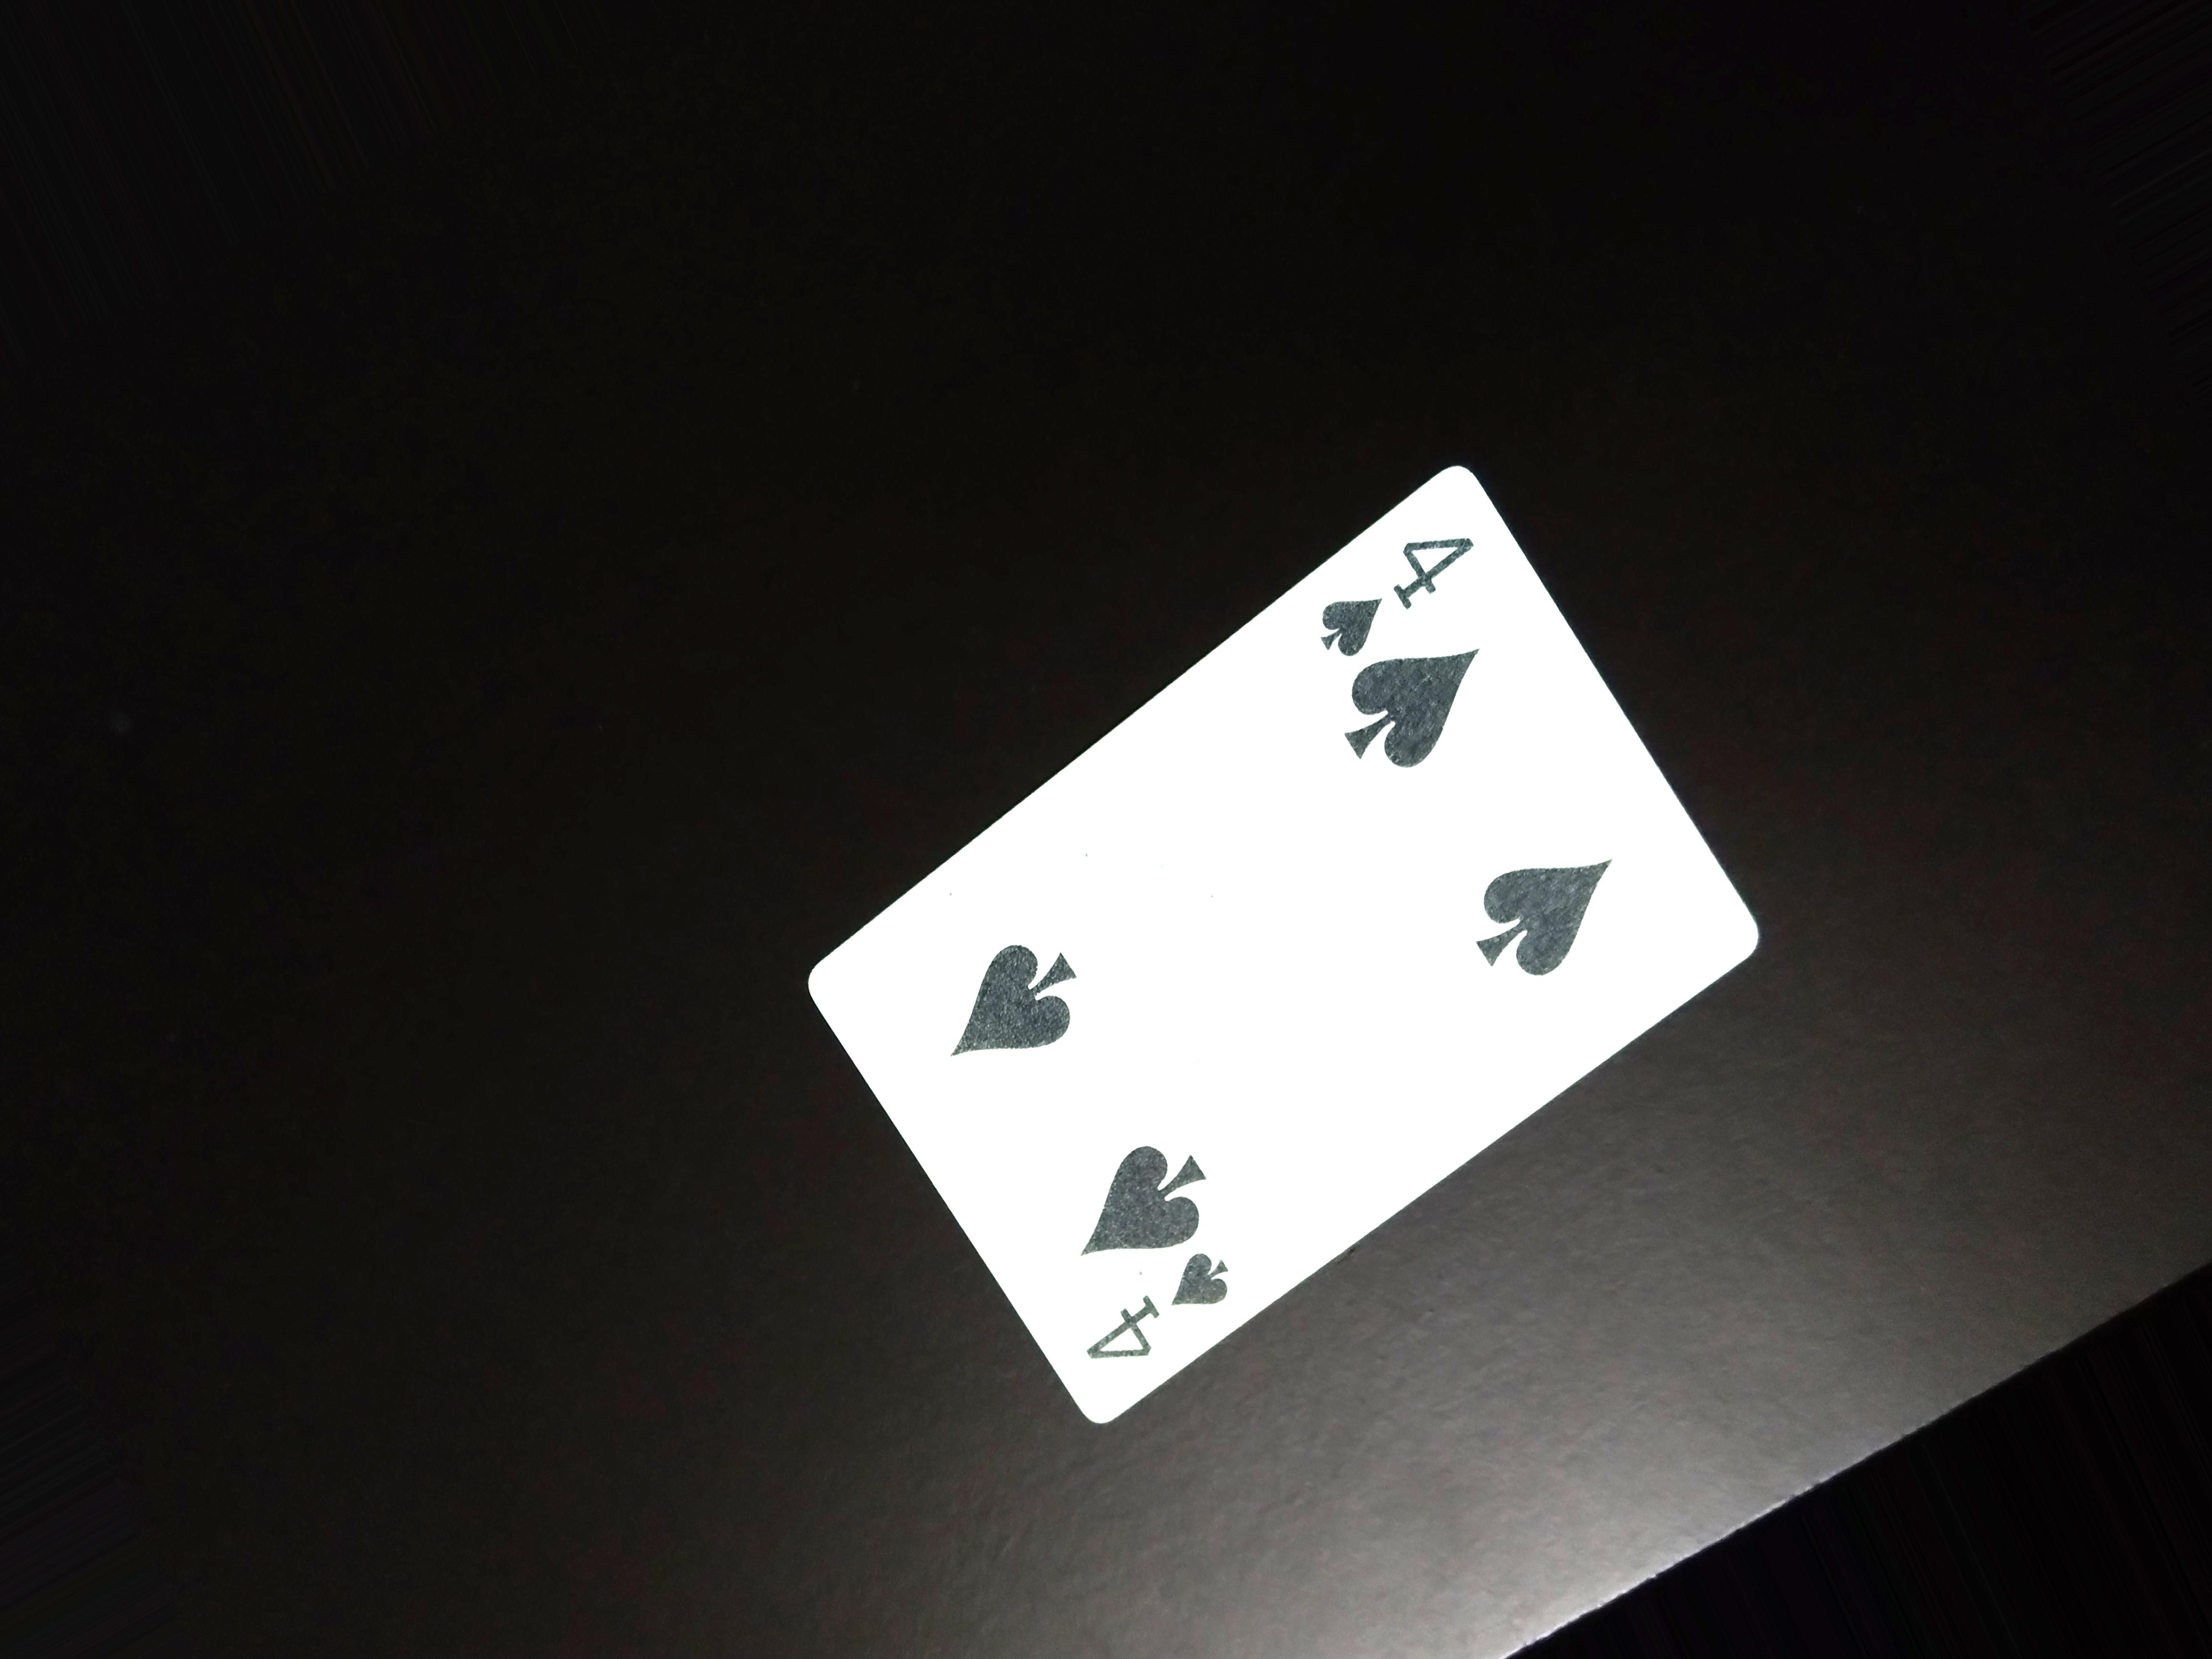4S: (1322, 479, 1475, 662)
